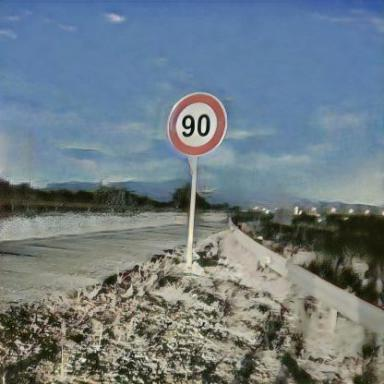Speed_limit_90: (169, 90, 225, 158)
